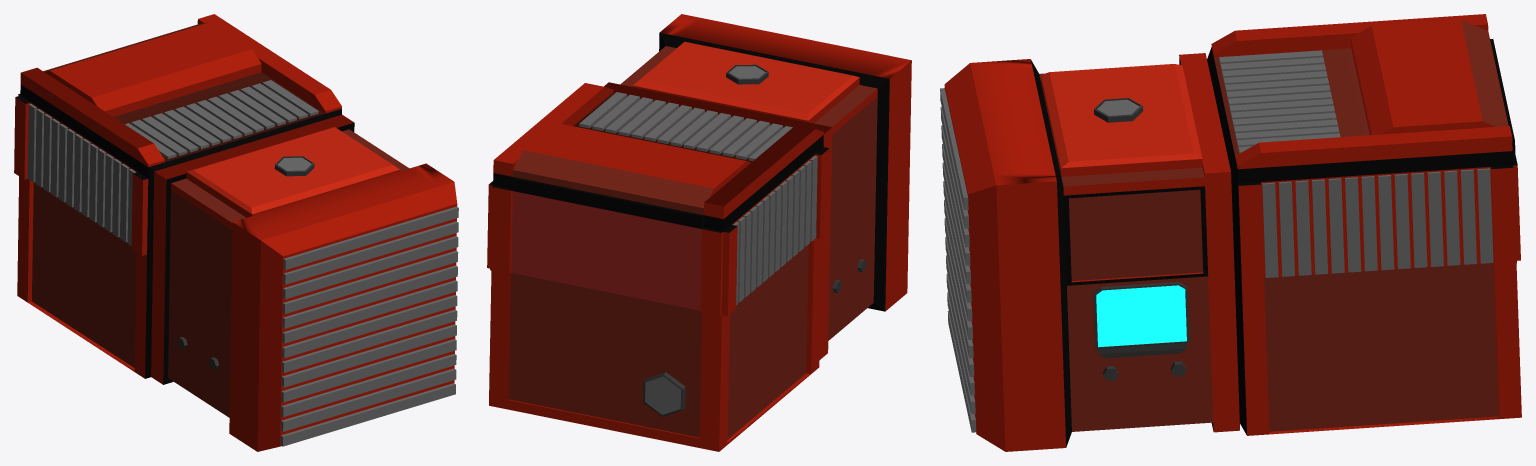
The model's file is Generator.fbx.
3 renders of one model, left to right at view 1: azimuth 30°, elevation 25°; view 2: azimuth 150°, elevation 25°; view 3: azimuth 270°, elevation 25°, orthographic. The views are drawn at different scales.
Parts seen in each view (by area): view 1: Generator; view 2: Generator; view 3: Generator.
Part boxes in pixels (<box>): Generator: <box>14,14,458,451</box>; Generator: <box>487,14,911,451</box>; Generator: <box>940,14,1521,451</box>.
Bounding box in the file's own units: 118 × 114 × 198.
